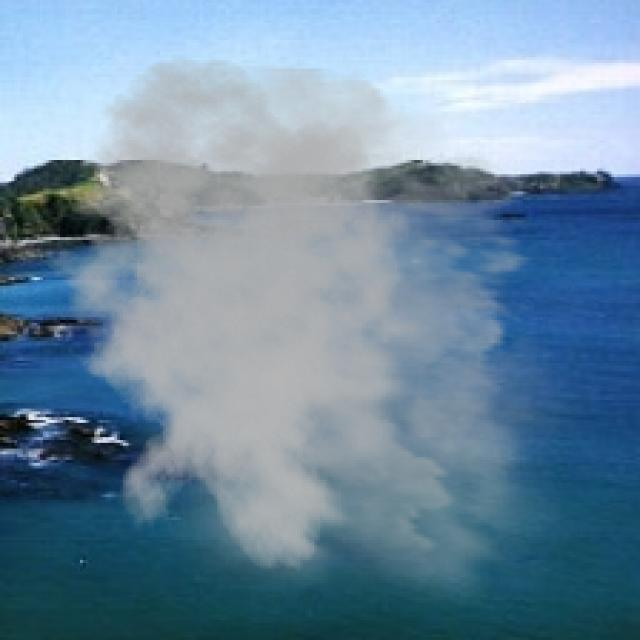Smoke: (28, 54, 594, 623)
